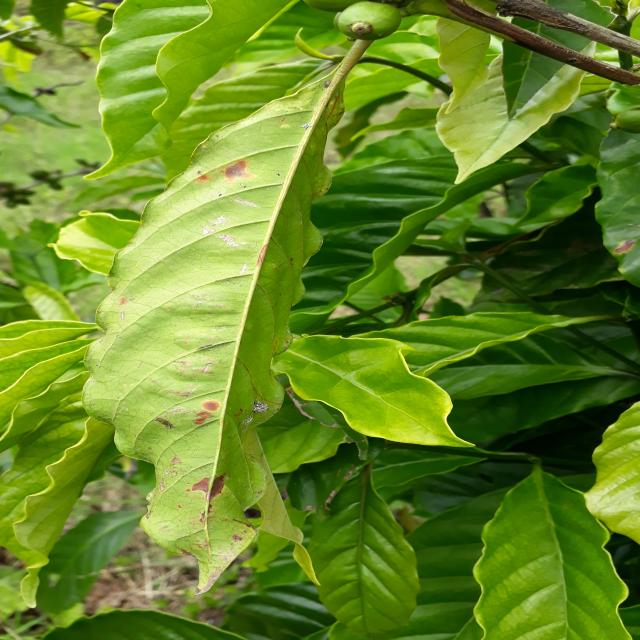Enfermedad-Roya: (85, 81, 325, 576)
